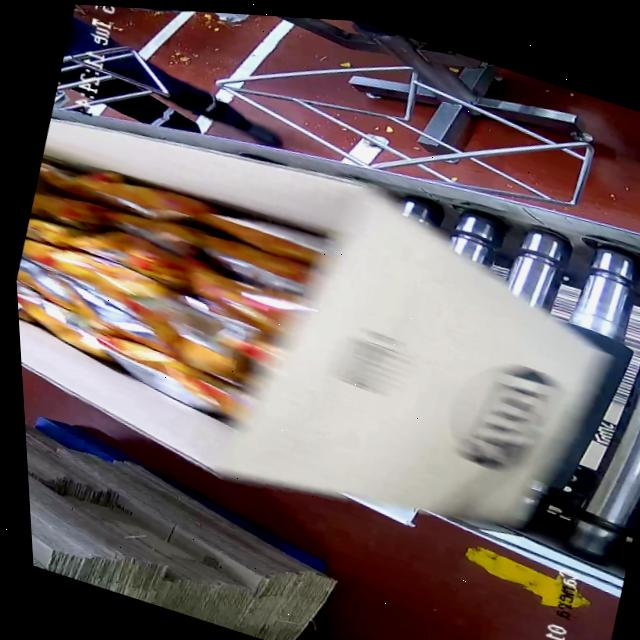FRENCH_CHEESE: (8, 142, 329, 405)
